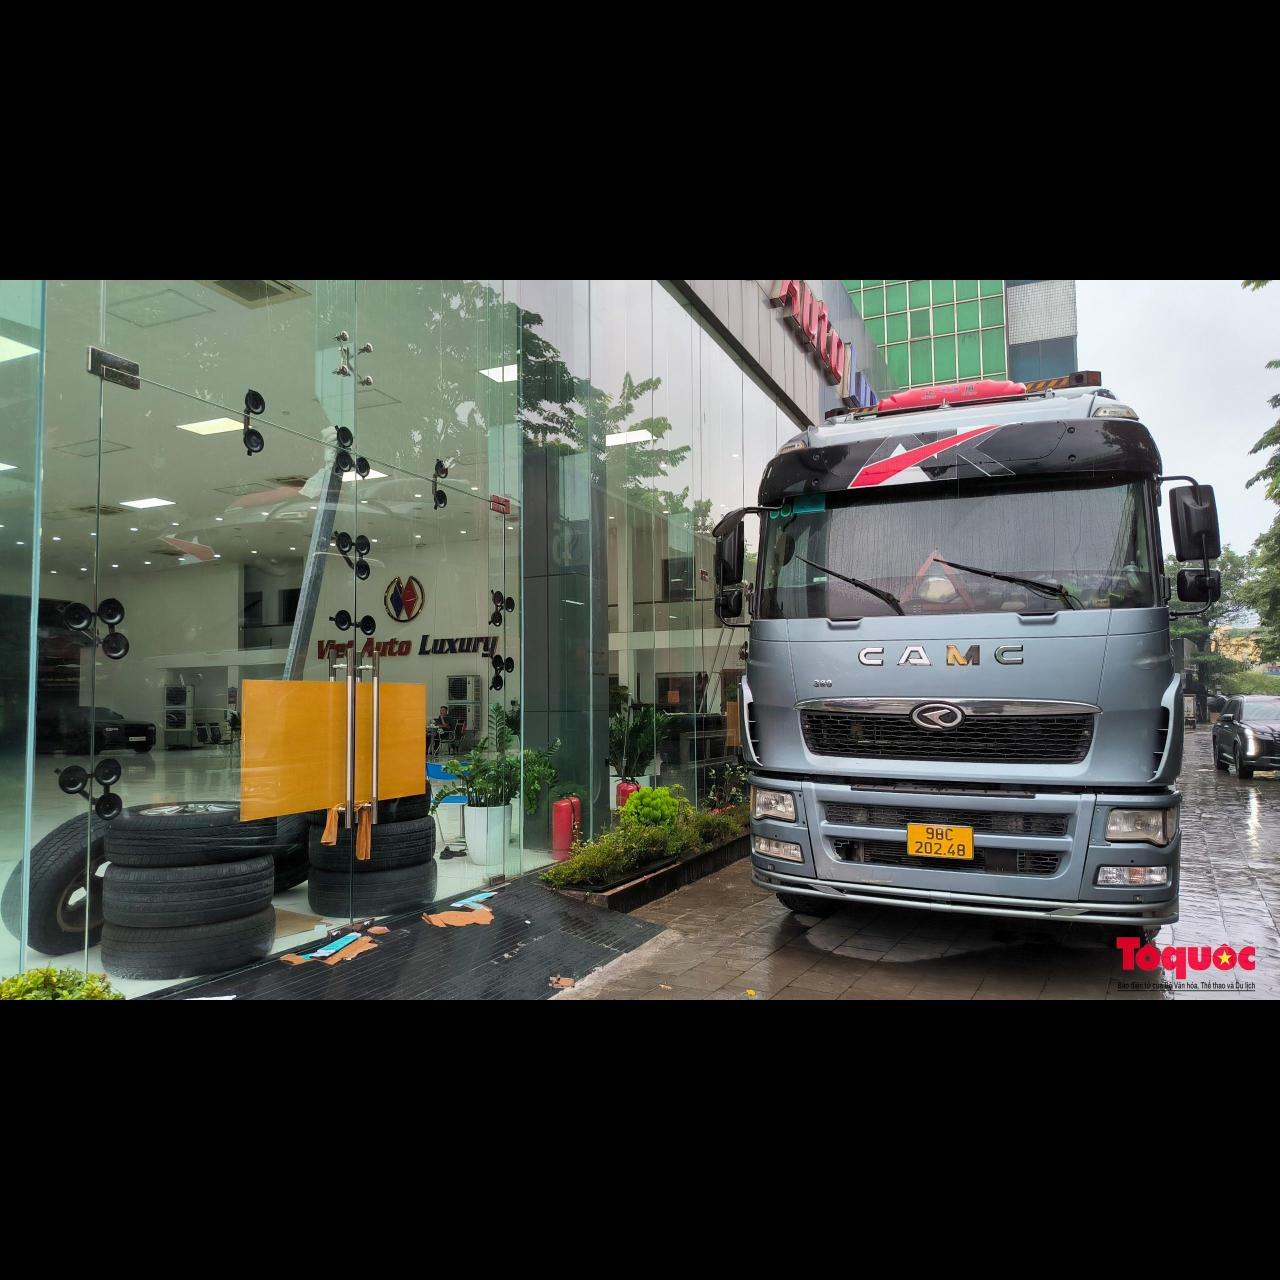bienso: (905, 821, 975, 861)
